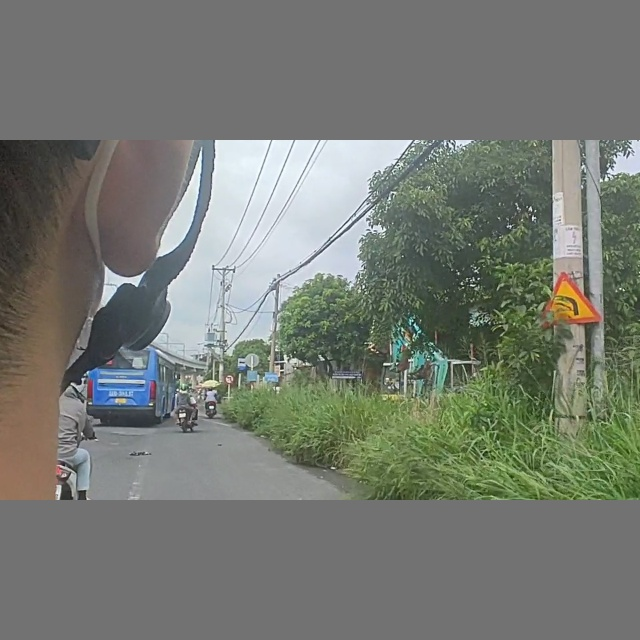I.434a: (236, 356, 247, 373)
P.123a: (225, 375, 235, 384)
W.201a: (539, 271, 603, 327)
